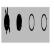correct: (16, 13, 23, 32)
not correct: (3, 7, 11, 36)
